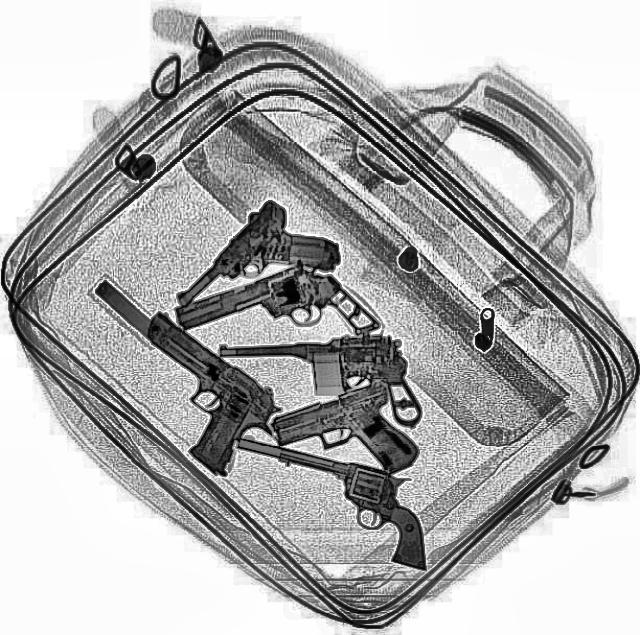Gun: (43, 268, 294, 481), (212, 433, 450, 572), (170, 243, 382, 388), (168, 191, 348, 357), (218, 334, 420, 434), (265, 377, 421, 500)
